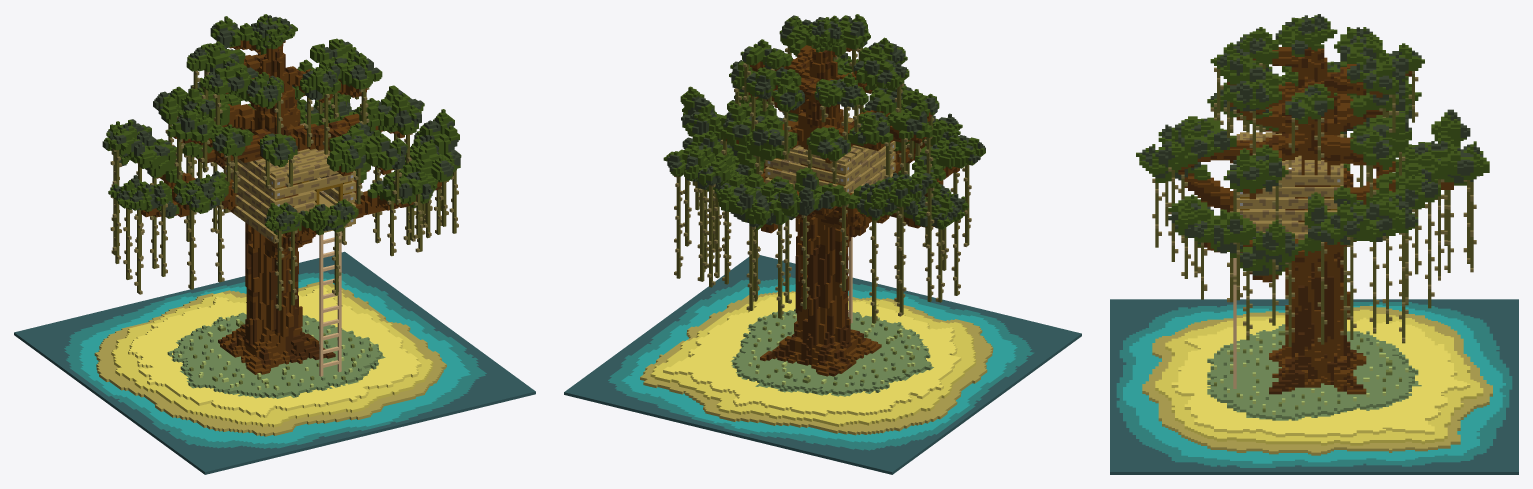
Rendered from #tree_house.obj.
The picture shows the model from 3 angles, left to right: view 1: azimuth 30°, elevation 25°; view 2: azimuth 150°, elevation 25°; view 3: azimuth 270°, elevation 25°; orthographic projection. The views are drawn at different scales.
Size of the model in its own units: 126 by 126 by 126.
Materials: 1 (1 with a texture image).
